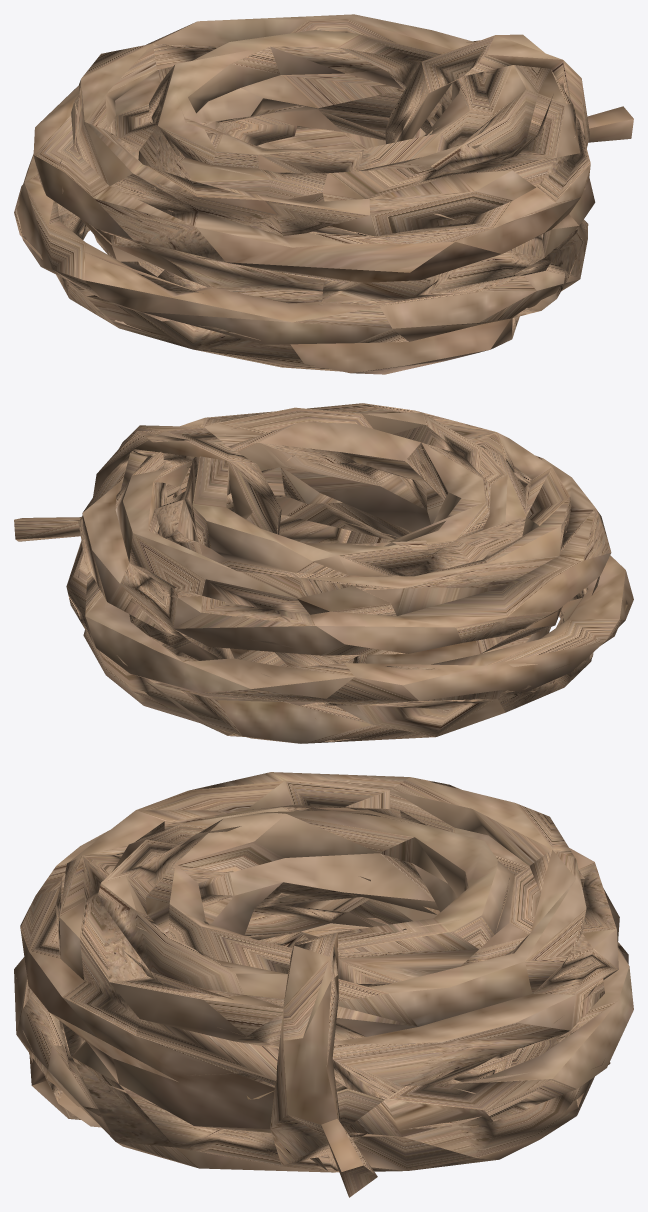
The picture shows the model from 3 angles, top to bottom: view 1: azimuth 30°, elevation 25°; view 2: azimuth 150°, elevation 25°; view 3: azimuth 270°, elevation 25°; orthographic projection. The views are drawn at different scales.
Visible parts, largest first — view 1: geometry_0; view 2: geometry_0; view 3: geometry_0.
Part boxes in pixels (bbox=[...]): geometry_0: bbox=[14, 14, 633, 374]; geometry_0: bbox=[14, 403, 633, 743]; geometry_0: bbox=[14, 772, 633, 1197].
Size of the model in its own units: 0.3487 by 0.1094 by 0.2813.
Materials: 1 (1 with a texture image).
